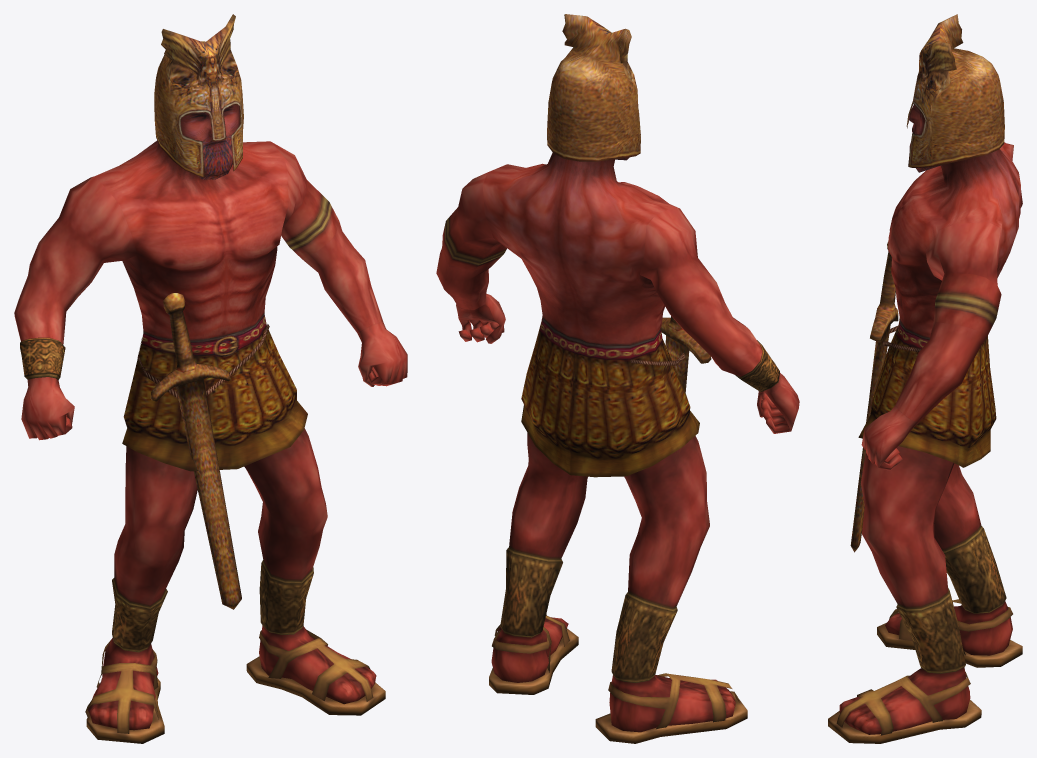
Rendered from Ares.fbx.
The picture shows the model from 3 angles, left to right: view 1: azimuth 30°, elevation 25°; view 2: azimuth 150°, elevation 25°; view 3: azimuth 270°, elevation 25°; orthographic projection. The views are drawn at different scales.
Parts seen in each view (by area): view 1: Body, Sword; view 2: Body, Sword; view 3: Body, Sword.
Boxes of the visible parts, x1,y1,x2,y2 form: Body: [14, 14, 407, 743]; Sword: [150, 293, 241, 609]; Body: [436, 14, 799, 743]; Sword: [661, 316, 711, 392]; Body: [828, 14, 1022, 743]; Sword: [850, 242, 898, 552].
Size of the model in its own units: 861 by 1537 by 416.
1 material, 1 textured.
